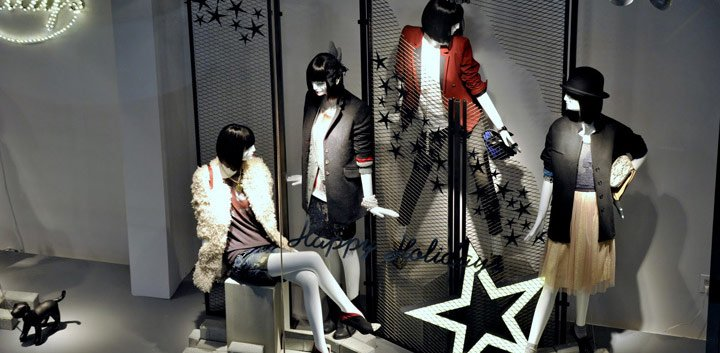person-like: (184, 119, 384, 351), (388, 2, 522, 283), (520, 63, 651, 350), (284, 47, 403, 341)
